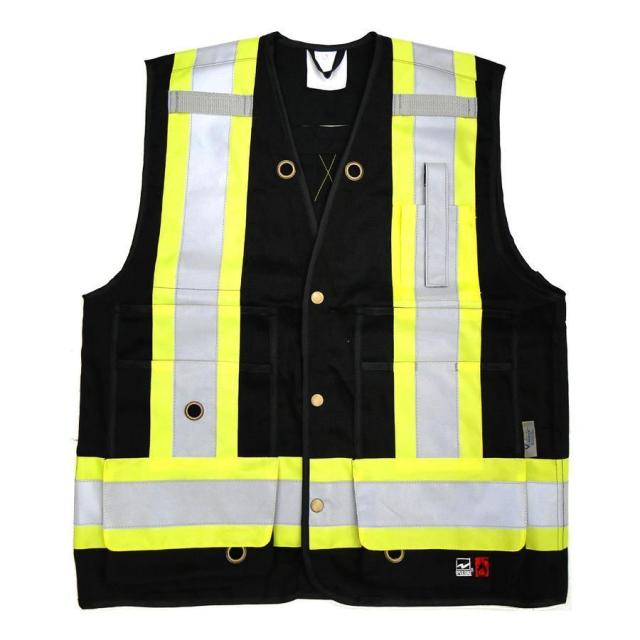Vest: (68, 25, 571, 608)
